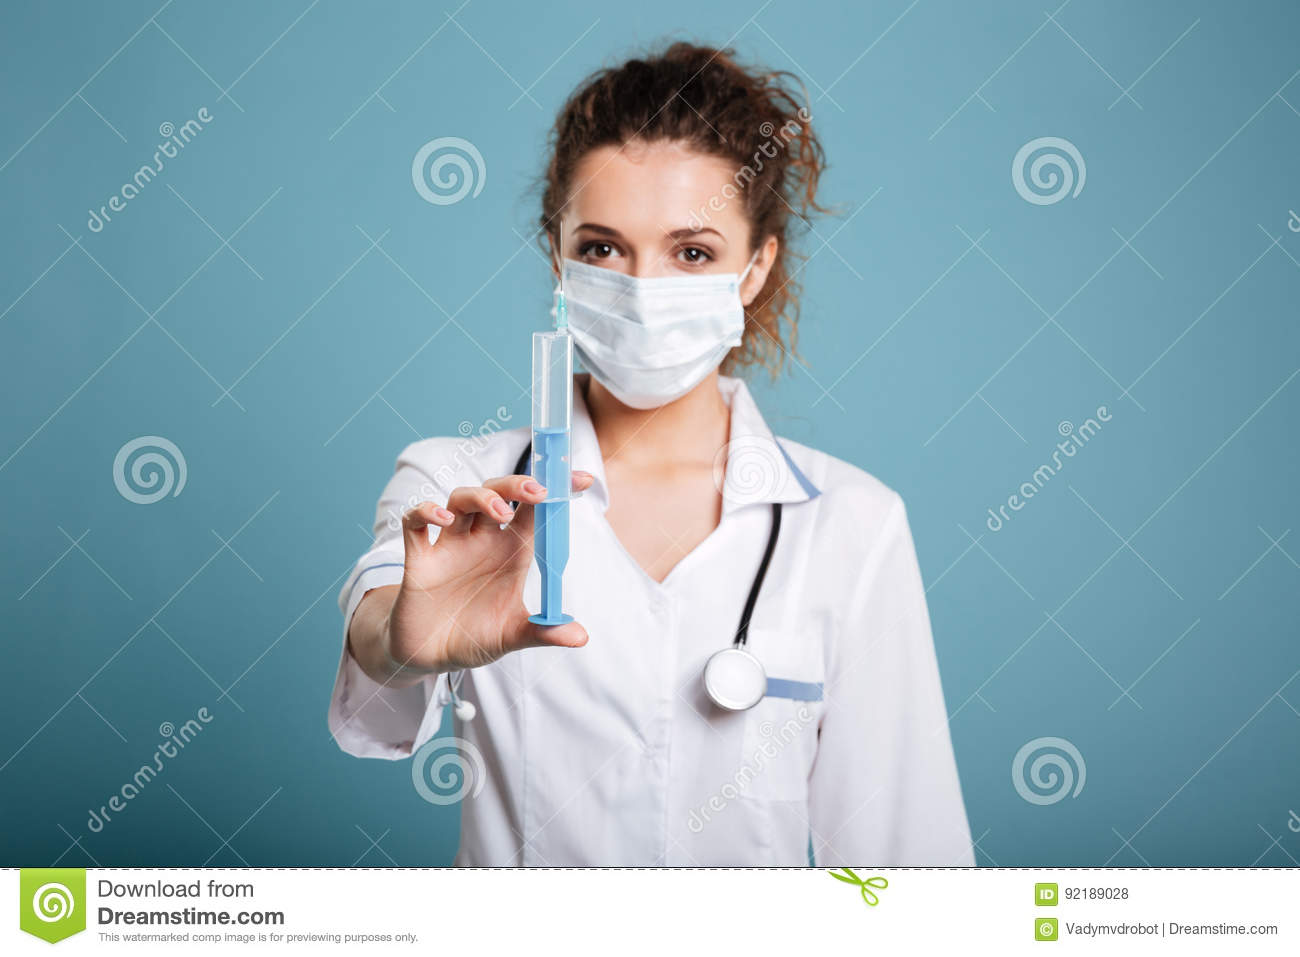mask: (547, 267, 764, 413)
